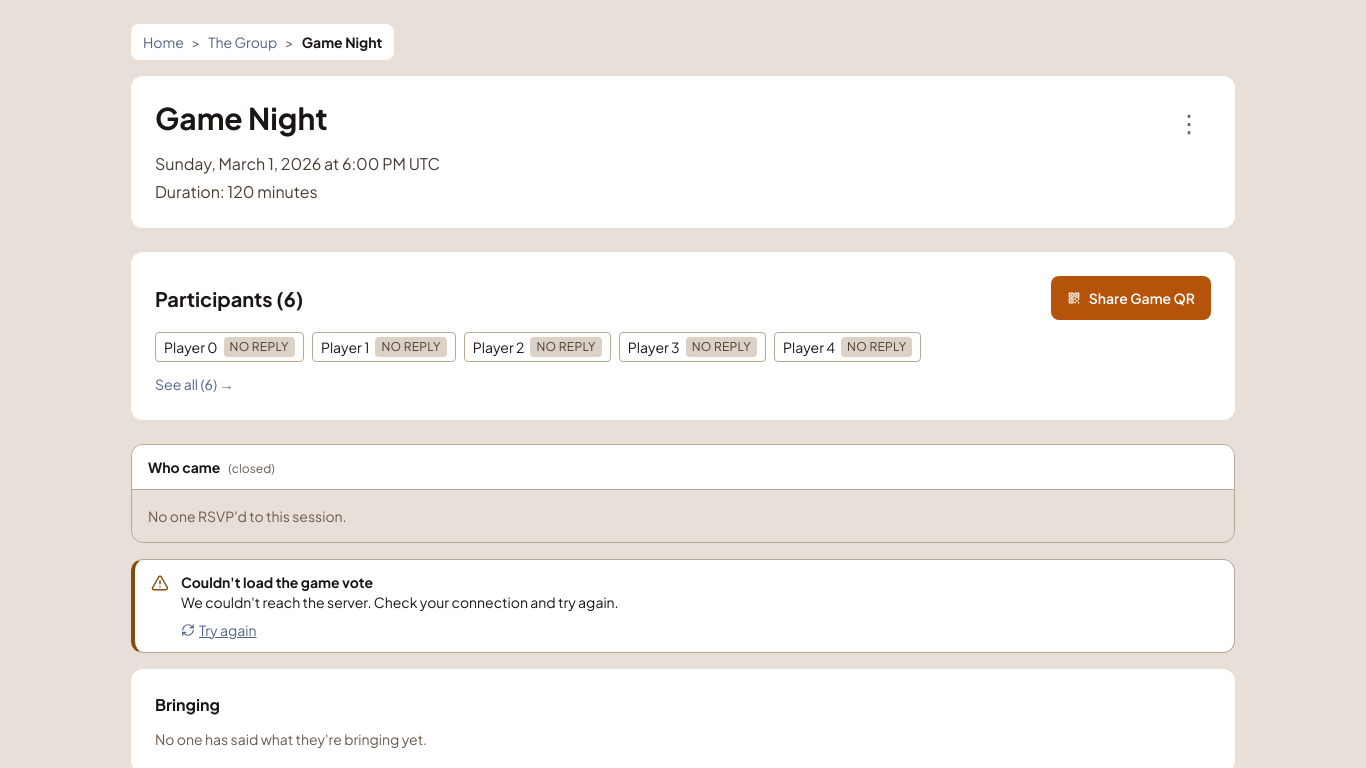
Test: gameDetail overlays are Modal-hosted (Req 9) › renders the See-all participants list as a dialog named by its header
Click the button "See all (6) →": (194,384) [155, 374, 234, 394]
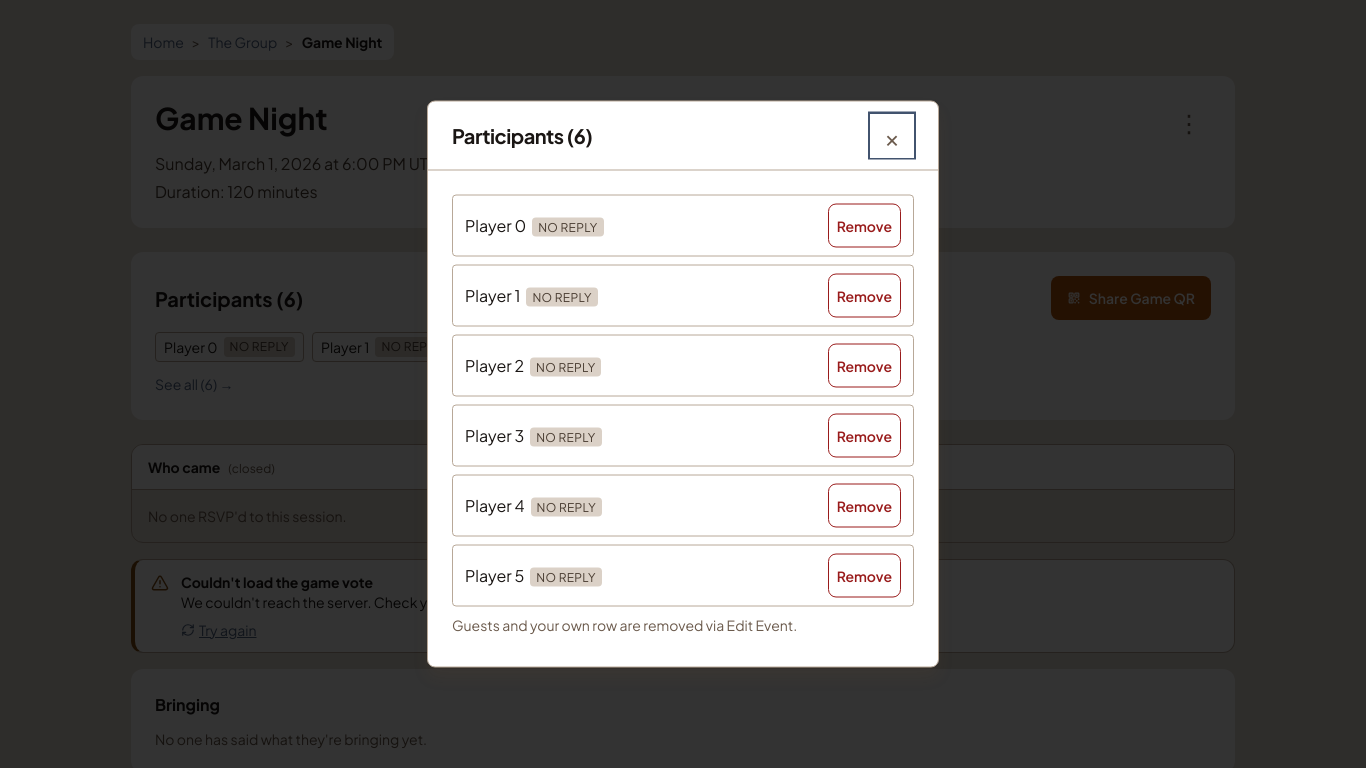
Now the button named "Close" is shown, box [870, 114, 914, 158]
